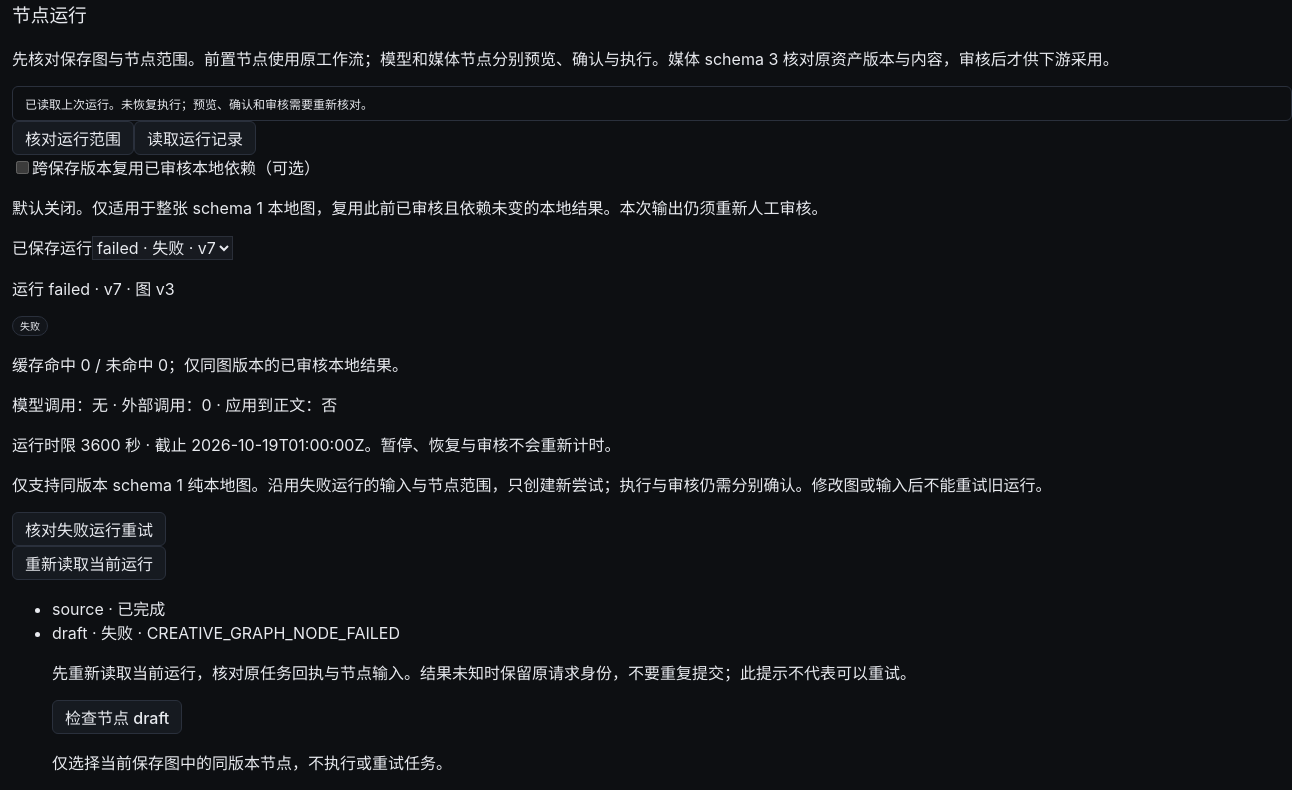
Test: failed pure-local retry controls › reads the original closure, requires fresh consent and only creates on an explicit click
Click the button "核对失败运行重试" at (89,529), box x1=12 y1=512 x2=166 y2=546
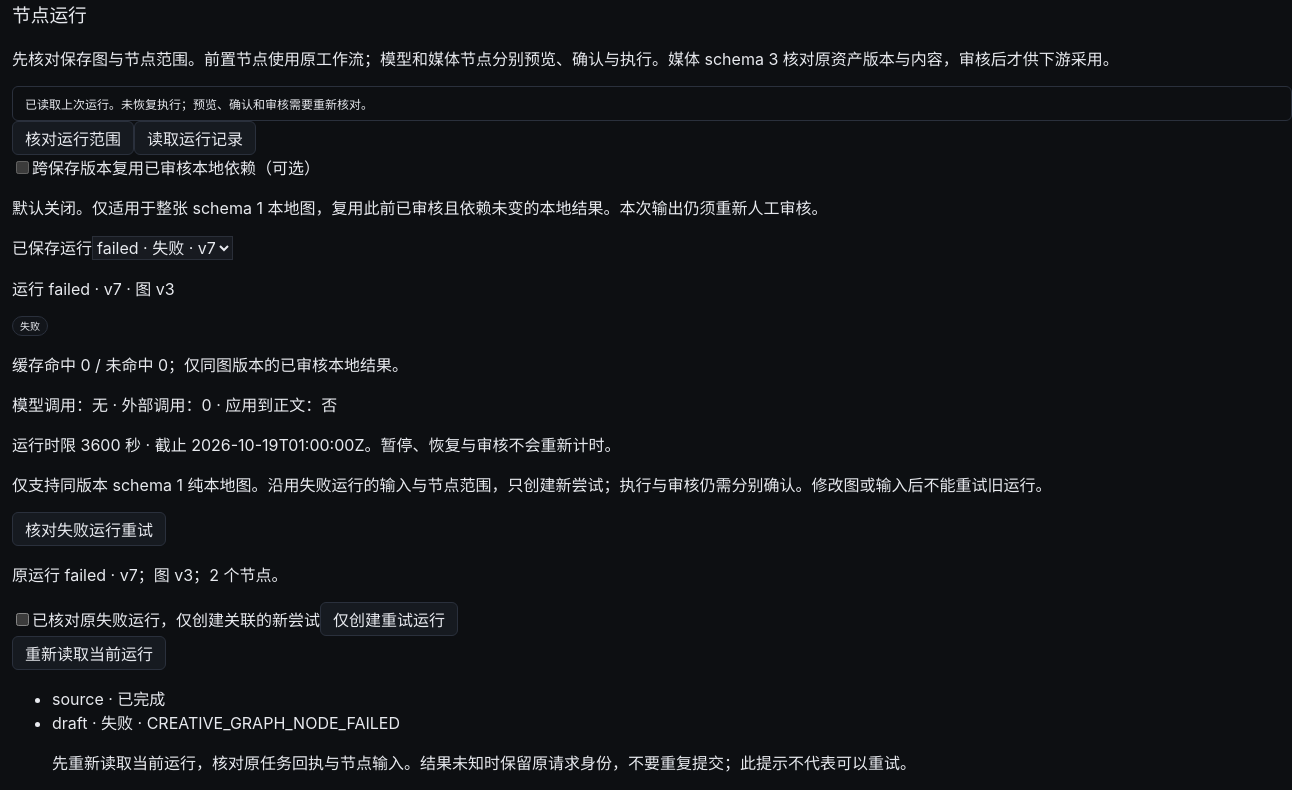
Now the checkbox labelled "已核对原失败运行，仅创建关联的新尝试" is shown
Now the button "仅创建重试运行" is disabled, box x1=320 y1=602 x2=458 y2=636
Click the checkbox labelled "已核对原失败运行，仅创建关联的新尝试" at (22,619), box x1=16 y1=613 x2=29 y2=626
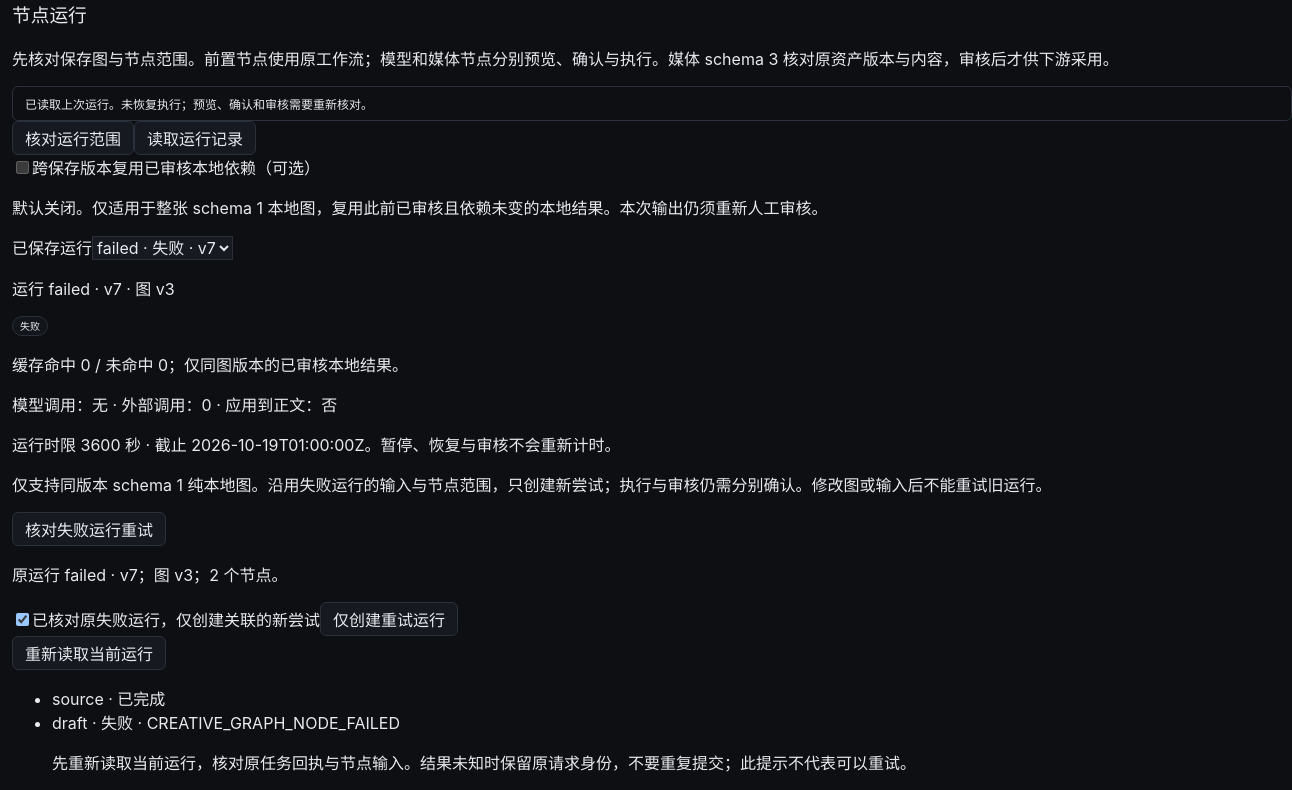
Click the button "仅创建重试运行" at (389,619), box x1=320 y1=602 x2=458 y2=636
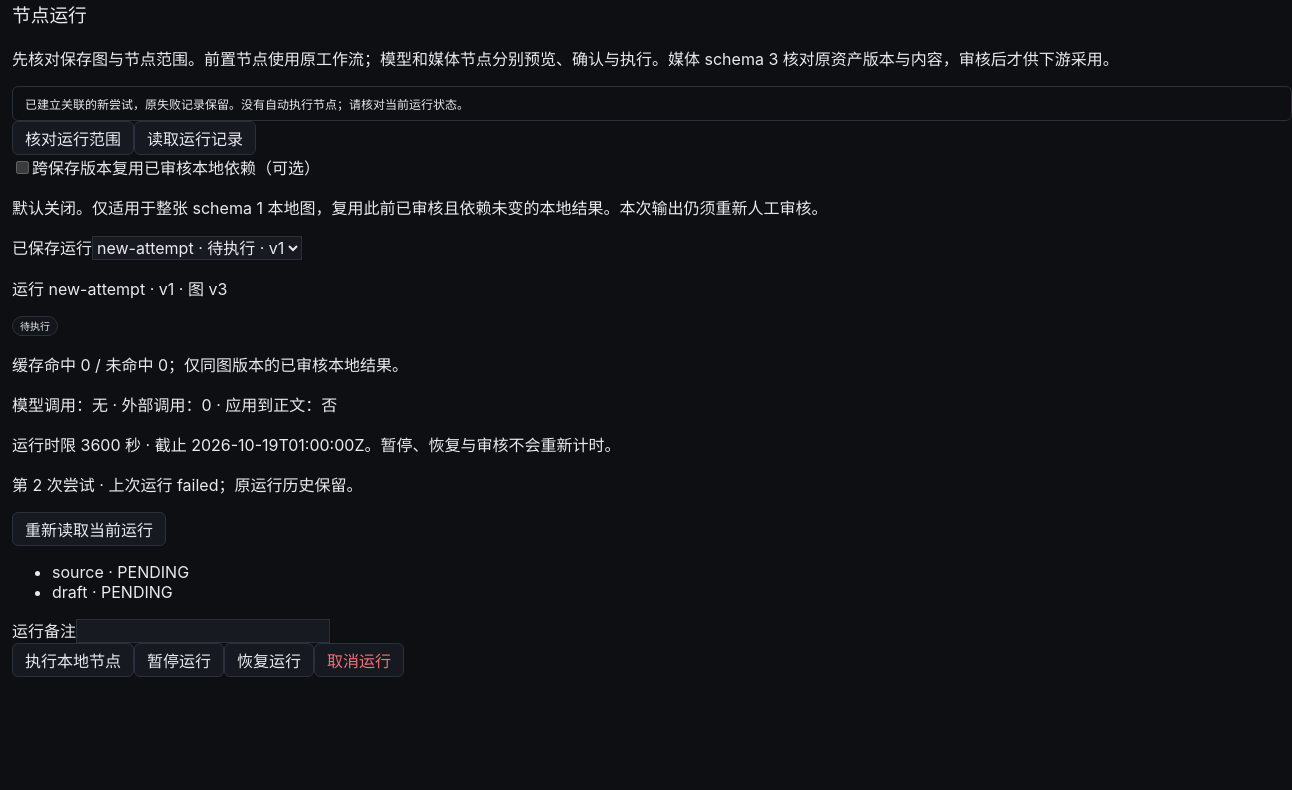
Now the text "第 2 次尝试 · 上次运行 failed；原运行历史保留。" is shown, box x1=12 y1=475 x2=362 y2=495
